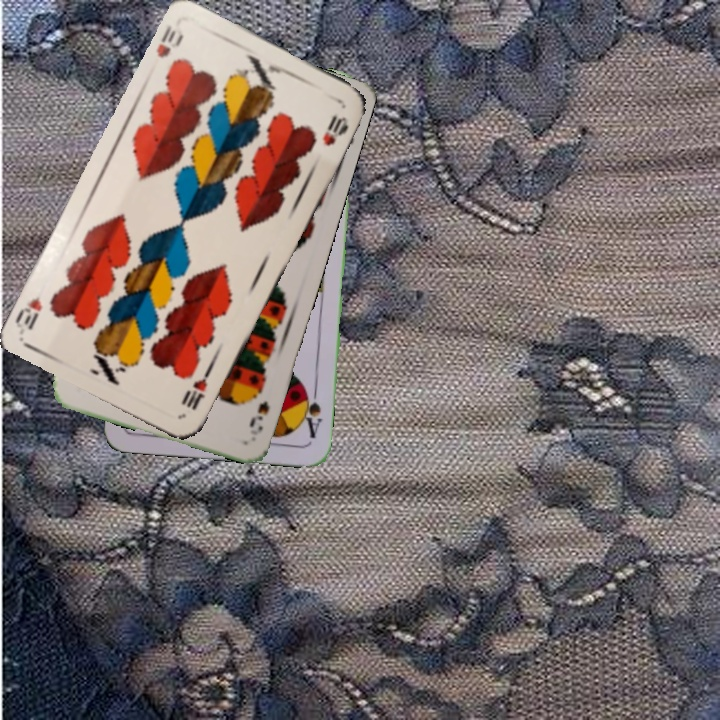H10: (178, 362, 215, 414), (152, 21, 187, 61)
S9: (245, 380, 272, 430)
SA: (298, 382, 324, 441)
